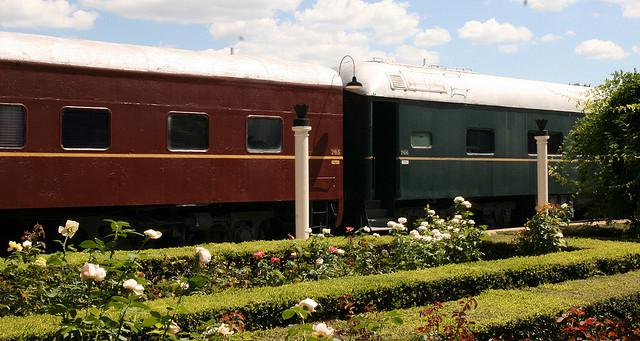Train: (0, 25, 602, 232)
